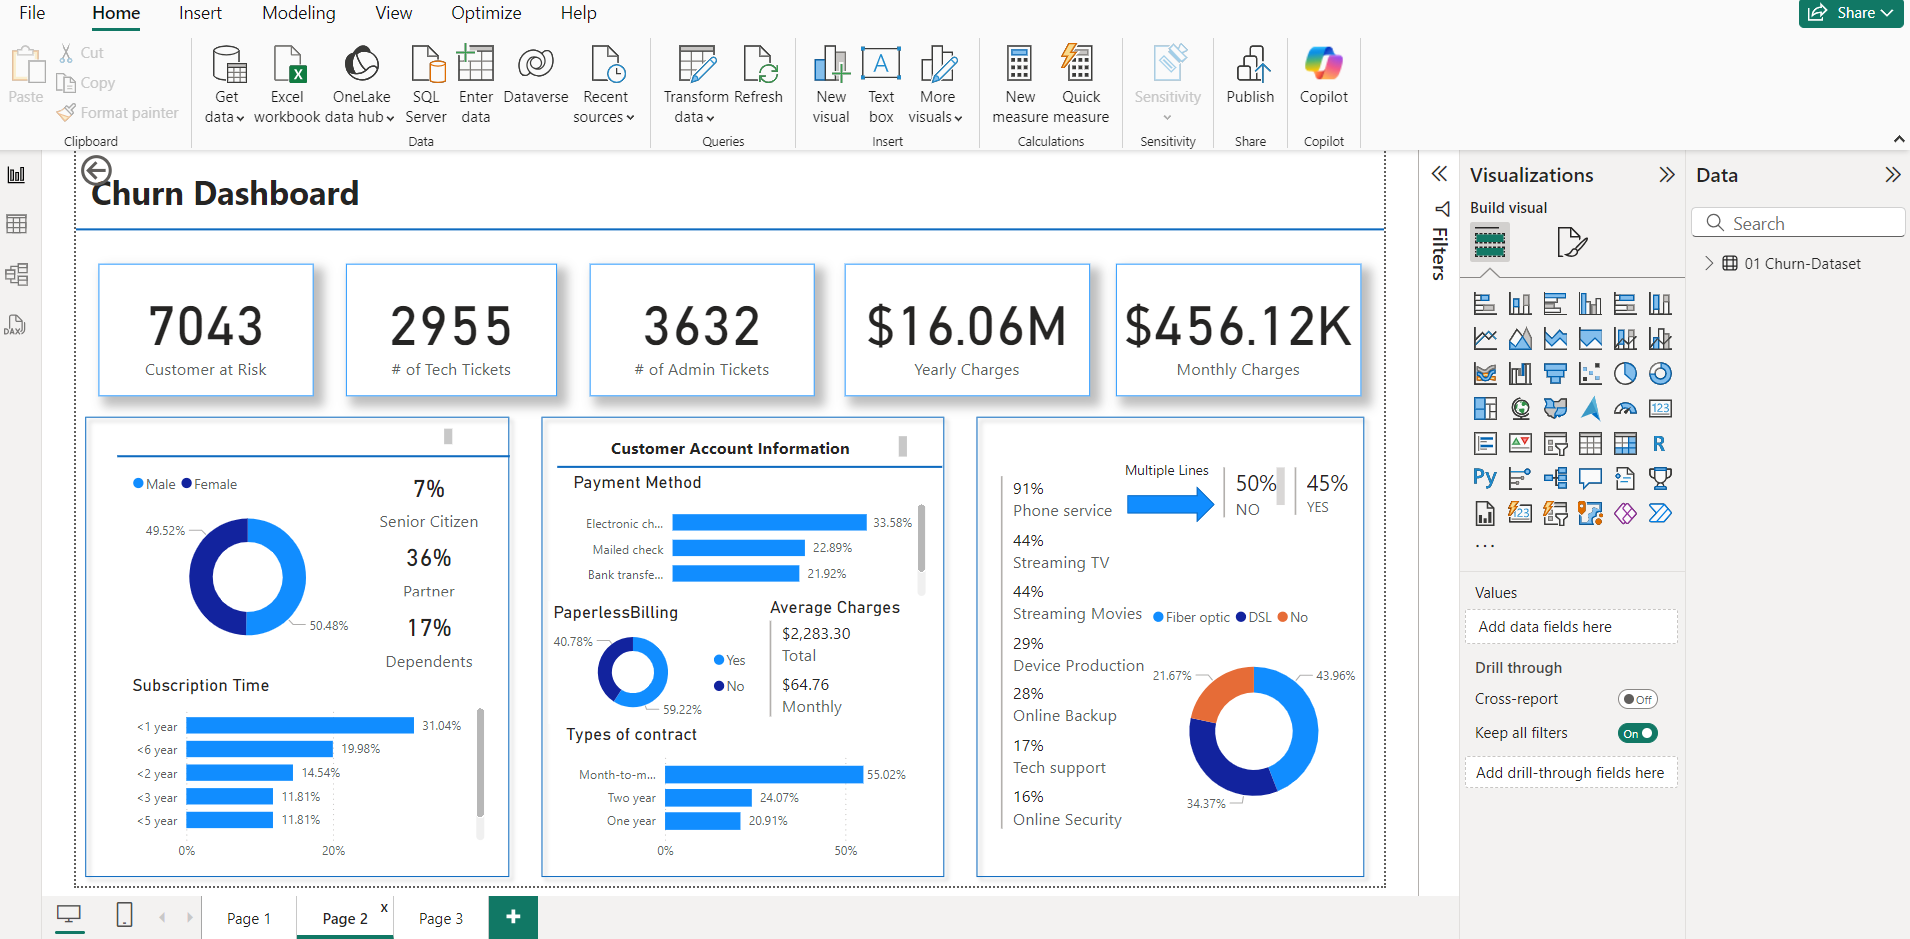

The page's visual inventory and layout, read from the dashboard file:
{"tool":"powerbi","page":{"name":"Page 2","canvas":[1280,720],"ordinal":1},"visuals":[{"type":"textbox","box":[9.8,14.7,478.1,62.4],"z":0},{"type":"shape","box":[0,35.5,1280.3,84.4],"z":1000},{"type":"card","fields":{"Values":["Count(01 Churn-Dataset.customerID)"]},"box":[22,111.3,210.3,129.6],"z":2000},{"type":"card","fields":{"Values":["Sum(01 Churn-Dataset.numTechTickets)"]},"box":[264.1,111.3,206.7,129.6],"z":3000},{"type":"card","fields":{"Values":["Sum(01 Churn-Dataset.MonthlyCharges)"]},"box":[1017.4,111.3,239.7,129.6],"z":4000},{"type":"card","fields":{"Values":["Sum(01 Churn-Dataset.numAdminTickets)"]},"box":[502.6,111.3,220.1,129.6],"z":5000},{"type":"card","fields":{"Values":["Sum(01 Churn-Dataset.TotalCharges)"]},"box":[752,111.3,239.7,129.6],"z":6000},{"type":"shape","box":[0,251.9,432.9,468.3],"z":7000},{"type":"textbox","box":[155.3,267.8,217.7,31.8],"z":8000},{"type":"shape","box":[40.4,277.6,384,44],"z":9000},{"type":"donutChart","fields":{"Category":["01 Churn-Dataset.gender"],"Y":["CountNonNull(01 Churn-Dataset.gender)"]},"box":[50.1,305.7,236,194.4],"z":10000},{"type":"card","fields":{"Values":["01 Churn-Dataset.% of Senior Citizen"]},"box":[286.1,305.7,118.6,70.9],"z":11000},{"type":"card","fields":{"Values":["01 Churn-Dataset.1% OF Partner"]},"box":[286.1,376.6,118.6,64.8],"z":12000},{"type":"card","fields":{"Values":["01 Churn-Dataset.% of Dependents"]},"box":[286.1,441.4,118.6,72.1],"z":13000},{"type":"clusteredBarChart","title":"Subscription Time","fields":{"Y":["CountNonNull(01 Churn-Dataset.Churn)"],"Category":["01 Churn-Dataset.Tenure(in years)"]},"box":[50.1,513.6,354.6,190.8],"z":14000},{"type":"shape","box":[446.3,251.9,412.1,468.3],"z":15000},{"type":"shape","box":[871.9,251.9,397.4,468.3],"z":16000},{"type":"textbox","box":[518.5,275.1,299.6,30.6],"z":17000},{"type":"shape","box":[470.8,291,376.6,37.9],"z":18000},{"type":"clusteredBarChart","title":"Payment Method","fields":{"Y":["CountNonNull(01 Churn-Dataset.PaymentMethod)"],"Category":["01 Churn-Dataset.PaymentMethod"]},"box":[481.8,314.3,354.6,127.2],"z":19000},{"type":"donutChart","title":"PaperlessBilling","fields":{"Category":["01 Churn-Dataset.PaperlessBilling"],"Y":["CountNonNull(01 Churn-Dataset.PaperlessBilling)"]},"box":[462.2,441.4,206.7,119.8],"z":20000},{"type":"multiRowCard","title":"Average Charges","fields":{"Values":["Avg(01 Churn-Dataset.TotalCharges)","Avg(01 Churn-Dataset.MonthlyCharges)"]},"box":[673.8,436.6,155.3,128.4],"z":21000},{"type":"clusteredBarChart","title":"Types of contract","fields":{"Y":["CountNonNull(01 Churn-Dataset.Contract)"],"Category":["01 Churn-Dataset.Contract"]},"box":[474.5,561.3,354.6,143.1],"z":22000},{"type":"multiRowCard","fields":{"Values":["01 Churn-Dataset.% Phone service","01 Churn-Dataset.% Streaming TV","01 Churn-Dataset.% Streaming Movies","01 Churn-Dataset.% Device Production","01 Churn-Dataset.% Online Backup","01 Churn-Dataset.% Tech support","01 Churn-Dataset.% Online Security"]},"box":[900,314.3,165.1,370.5],"z":23000},{"type":"actionButton","box":[0,0,100,40],"z":24000},{"type":"shape","box":[1028.4,328.9,85.6,35.5],"z":25000},{"type":"textbox","box":[1021.1,298.4,101.5,30.6],"z":26000},{"type":"multiRowCard","fields":{"Values":["01 Churn-Dataset.% NO-Multiple Lines"]},"box":[1117.7,305.7,69.7,58.7],"z":27000},{"type":"multiRowCard","fields":{"Values":["01 Churn-Dataset.% YES-Multiple lines"]},"box":[1187.4,305.7,68.5,67.3],"z":28000},{"type":"donutChart","title":"PaperlessBilling","fields":{"Category":["01 Churn-Dataset.InternetService"],"Y":["CountNonNull(01 Churn-Dataset.InternetService)"]},"box":[1048,436.6,209.1,234.8],"z":29000}]}

Visuals, with their boxes on the page's 1280x720 design canvas (x1, y1, x2, y2). These are canvas units, not pixel positions in the 1910x939 screenshot, which may show the page scaled, cropped or inside an application window:
textbox: locate(10, 15, 488, 77)
shape: locate(0, 36, 1280, 120)
card - Count(01 Churn-Dataset.customerID): locate(22, 111, 232, 241)
card - Sum(01 Churn-Dataset.numTechTickets): locate(264, 111, 471, 241)
card - Sum(01 Churn-Dataset.MonthlyCharges): locate(1017, 111, 1257, 241)
card - Sum(01 Churn-Dataset.numAdminTickets): locate(503, 111, 723, 241)
card - Sum(01 Churn-Dataset.TotalCharges): locate(752, 111, 992, 241)
shape: locate(0, 252, 433, 720)
textbox: locate(155, 268, 373, 300)
shape: locate(40, 278, 424, 322)
donutChart - 01 Churn-Dataset.gender x CountNonNull(01 Churn-Dataset.gender): locate(50, 306, 286, 500)
card - 01 Churn-Dataset.% of Senior Citizen: locate(286, 306, 405, 377)
card - 01 Churn-Dataset.1% OF Partner: locate(286, 377, 405, 441)
card - 01 Churn-Dataset.% of Dependents: locate(286, 441, 405, 514)
"Subscription Time" clusteredBarChart: locate(50, 514, 405, 704)
shape: locate(446, 252, 858, 720)
shape: locate(872, 252, 1269, 720)
textbox: locate(518, 275, 818, 306)
shape: locate(471, 291, 847, 329)
"Payment Method" clusteredBarChart: locate(482, 314, 836, 442)
"PaperlessBilling" donutChart: locate(462, 441, 669, 561)
"Average Charges" multiRowCard: locate(674, 437, 829, 565)
"Types of contract" clusteredBarChart: locate(474, 561, 829, 704)
multiRowCard - 01 Churn-Dataset.% Phone service x 01 Churn-Dataset.% Streaming TV: locate(900, 314, 1065, 685)
actionButton: locate(0, 0, 100, 40)
shape: locate(1028, 329, 1114, 364)
textbox: locate(1021, 298, 1123, 329)
multiRowCard - 01 Churn-Dataset.% NO-Multiple Lines: locate(1118, 306, 1187, 364)
multiRowCard - 01 Churn-Dataset.% YES-Multiple lines: locate(1187, 306, 1256, 373)
"PaperlessBilling" donutChart: locate(1048, 437, 1257, 671)
